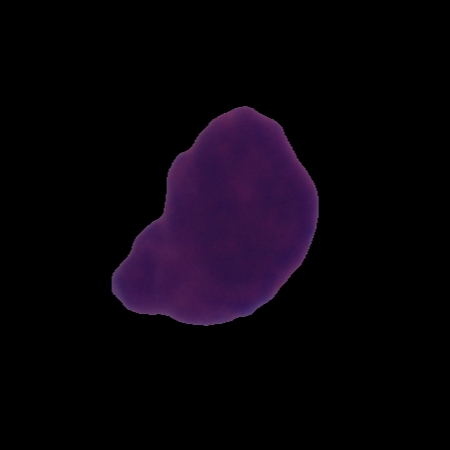ALL: (108, 102, 324, 328)
